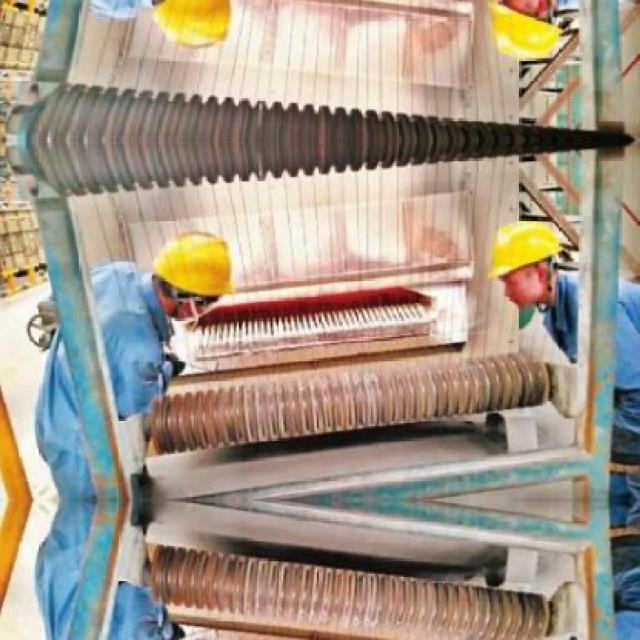con casco: (80, 214, 232, 374), (501, 166, 613, 336)
